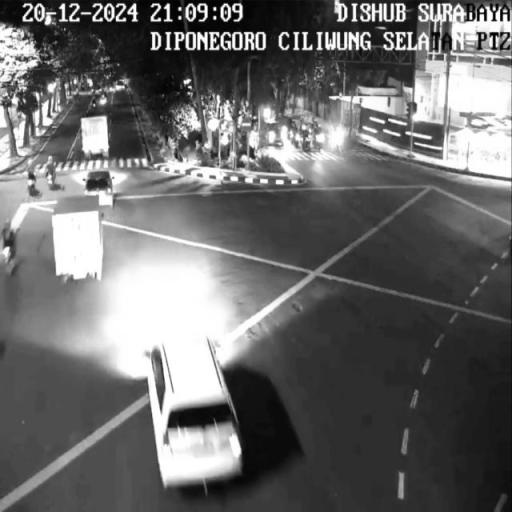car: (145, 337, 247, 487), (85, 171, 116, 207)
motorcycle: (3, 230, 16, 276), (43, 168, 65, 188), (27, 173, 38, 197)
truck: (51, 193, 105, 281), (79, 113, 113, 158)
